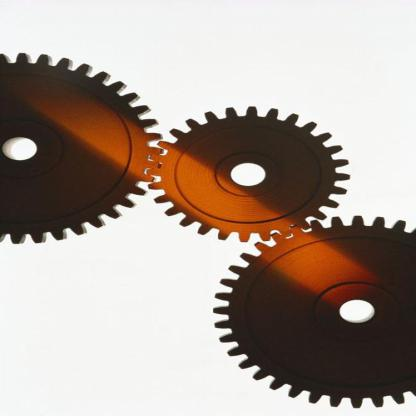FOD: (208, 212, 415, 410), (0, 50, 164, 250), (146, 102, 358, 245)
